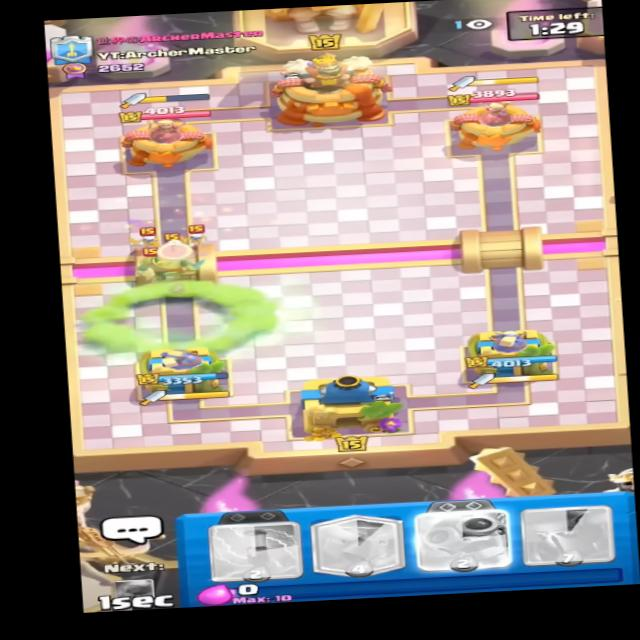knight: (135, 245, 205, 283)
skeleton: (127, 224, 158, 247), (184, 222, 213, 244)
